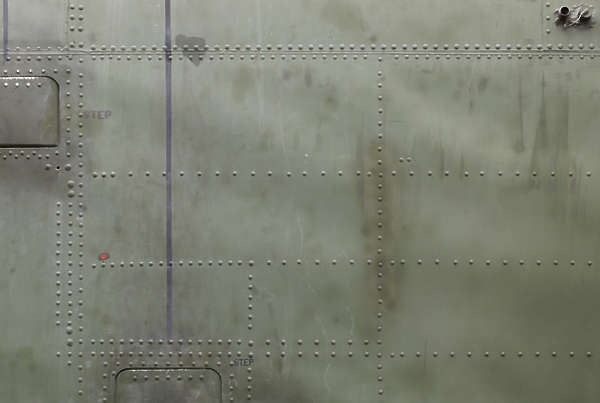hole: (57, 165, 61, 170)
rivet: (66, 339, 74, 348), (66, 327, 75, 335), (64, 164, 72, 172), (377, 363, 384, 371), (377, 311, 384, 319), (68, 191, 76, 198), (69, 181, 76, 189), (231, 171, 239, 178), (588, 43, 595, 50), (556, 43, 563, 50), (494, 43, 501, 50), (432, 44, 439, 51), (422, 44, 429, 51), (411, 43, 418, 50), (391, 43, 398, 50), (380, 44, 387, 51), (359, 45, 366, 52), (348, 44, 355, 51), (339, 44, 346, 51), (307, 44, 314, 51), (297, 44, 304, 51), (287, 44, 294, 51), (45, 164, 52, 171), (78, 313, 85, 320), (329, 339, 336, 346), (377, 375, 384, 382), (585, 351, 592, 358), (463, 171, 470, 178), (377, 298, 384, 305), (377, 222, 384, 229), (145, 170, 152, 177), (255, 45, 263, 51), (103, 384, 109, 392), (518, 260, 526, 266), (315, 259, 321, 267), (495, 54, 501, 61), (465, 55, 472, 61), (545, 15, 551, 22), (578, 43, 584, 50), (567, 44, 574, 50), (545, 28, 551, 35), (547, 44, 553, 51), (536, 45, 543, 51), (463, 44, 469, 51), (454, 43, 460, 50), (443, 44, 449, 51), (370, 44, 376, 51), (318, 44, 324, 51), (277, 44, 283, 51), (267, 44, 273, 51), (140, 360, 147, 366), (198, 375, 205, 381), (132, 375, 139, 381), (165, 361, 172, 367), (179, 361, 186, 367), (99, 339, 105, 346), (78, 391, 85, 397), (78, 364, 84, 371), (56, 351, 62, 358), (90, 338, 96, 345), (79, 338, 85, 345), (55, 320, 61, 327), (216, 361, 223, 367), (203, 361, 210, 367), (197, 339, 204, 345), (249, 352, 255, 359), (248, 341, 254, 348), (265, 340, 272, 346), (265, 351, 271, 358), (281, 339, 287, 346), (298, 338, 304, 345), (298, 351, 304, 358), (314, 352, 320, 359), (313, 339, 320, 345), (378, 389, 384, 396), (376, 326, 383, 332), (415, 350, 421, 357), (431, 351, 438, 357), (448, 352, 455, 358), (466, 351, 472, 358), (569, 351, 575, 358), (552, 260, 559, 266), (568, 171, 574, 178), (444, 171, 450, 178), (501, 260, 508, 266), (484, 260, 491, 266), (452, 260, 459, 266), (417, 259, 424, 265), (400, 258, 406, 265), (377, 286, 384, 292), (389, 260, 396, 266), (296, 259, 303, 265), (249, 260, 255, 267), (78, 183, 84, 190), (78, 123, 84, 130), (110, 172, 117, 178), (337, 171, 344, 177), (506, 55, 512, 61), (516, 55, 522, 61), (547, 54, 553, 60), (527, 54, 533, 60), (455, 55, 461, 61), (435, 55, 441, 61), (505, 44, 511, 50), (485, 44, 491, 50), (475, 44, 481, 50), (402, 45, 408, 51), (328, 44, 334, 50), (45, 154, 51, 160), (230, 397, 236, 403), (112, 371, 118, 377), (103, 373, 109, 379), (128, 361, 134, 367), (176, 375, 182, 381), (165, 375, 171, 381), (143, 374, 149, 380), (192, 361, 198, 367), (188, 338, 194, 344), (148, 339, 154, 345), (139, 339, 145, 345), (119, 339, 125, 345), (109, 339, 115, 345), (100, 351, 106, 357), (78, 377, 84, 383), (68, 351, 74, 357), (207, 352, 213, 358), (217, 339, 223, 345), (227, 339, 233, 345), (248, 314, 254, 320), (247, 394, 253, 400), (281, 351, 287, 357), (330, 352, 336, 358), (363, 339, 369, 345), (376, 339, 382, 345), (389, 352, 395, 358), (399, 352, 405, 358), (483, 351, 489, 357), (517, 351, 523, 357), (570, 260, 576, 266), (586, 171, 592, 177), (550, 172, 556, 178), (531, 171, 537, 177), (479, 172, 485, 178), (536, 260, 542, 266), (467, 260, 473, 266), (434, 259, 440, 265), (349, 259, 355, 265), (377, 248, 383, 254), (377, 210, 383, 216), (281, 260, 287, 266), (248, 304, 254, 310), (248, 295, 254, 301), (248, 274, 254, 280), (178, 261, 184, 267), (79, 301, 85, 307), (67, 291, 73, 297), (110, 262, 116, 268), (78, 143, 84, 149), (162, 171, 168, 177), (128, 172, 134, 178), (101, 173, 107, 179), (92, 172, 98, 178), (286, 172, 292, 178), (250, 171, 256, 177), (215, 172, 221, 178), (179, 172, 185, 178), (408, 171, 414, 177), (321, 171, 327, 177), (367, 172, 373, 178), (377, 160, 383, 166), (91, 45, 97, 51), (79, 43, 85, 49), (70, 15, 76, 21), (79, 16, 85, 22), (79, 5, 85, 11), (70, 5, 76, 11), (559, 54, 564, 61), (424, 56, 431, 61), (527, 43, 532, 50), (103, 396, 108, 403), (120, 351, 125, 358), (67, 361, 74, 366), (79, 326, 84, 333), (227, 351, 232, 358), (237, 351, 242, 358), (587, 261, 592, 268), (496, 173, 503, 178), (407, 157, 412, 164), (377, 273, 384, 278), (120, 261, 125, 268), (66, 115, 71, 122), (120, 46, 127, 51), (486, 55, 491, 61), (476, 54, 481, 60), (516, 44, 521, 50), (38, 155, 43, 161), (25, 156, 31, 161), (20, 150, 25, 156), (15, 154, 20, 160), (154, 376, 160, 381), (154, 362, 160, 367), (138, 351, 144, 356), (159, 352, 165, 357), (178, 351, 184, 356), (158, 339, 164, 344), (129, 339, 134, 345), (109, 352, 114, 358), (79, 353, 85, 358), (67, 321, 73, 326), (198, 352, 203, 358), (208, 339, 213, 345), (248, 324, 254, 329), (237, 340, 242, 346), (229, 374, 235, 379), (229, 386, 235, 391), (248, 385, 253, 391), (248, 377, 254, 382), (348, 351, 353, 357), (348, 339, 353, 345), (364, 352, 369, 358), (376, 353, 382, 358), (500, 351, 505, 357), (551, 351, 556, 357), (427, 171, 432, 177), (399, 158, 404, 164), (332, 259, 337, 265), (366, 260, 372, 265), (377, 236, 383, 241), (248, 285, 254, 290), (267, 260, 272, 266), (238, 260, 243, 266), (228, 260, 233, 266), (218, 260, 223, 266), (197, 261, 202, 267), (68, 311, 74, 316), (56, 311, 61, 317), (68, 301, 74, 306), (80, 288, 85, 294), (55, 301, 61, 306), (139, 262, 145, 267), (130, 262, 135, 268), (102, 263, 107, 269), (80, 275, 85, 281), (68, 281, 73, 287), (68, 271, 74, 276), (79, 262, 85, 267), (79, 252, 84, 258), (80, 242, 85, 248), (79, 223, 85, 228), (56, 251, 61, 257), (57, 241, 62, 247), (57, 211, 62, 217), (78, 174, 84, 179), (79, 153, 84, 159), (79, 133, 85, 138), (66, 128, 71, 134), (66, 141, 71, 147), (67, 153, 72, 159), (302, 172, 307, 178), (198, 172, 203, 178), (378, 96, 383, 102), (394, 55, 400, 60), (342, 55, 348, 60), (141, 46, 147, 51), (199, 56, 204, 62), (70, 43, 75, 49), (78, 28, 84, 33), (69, 27, 75, 32), (92, 351, 96, 358), (537, 56, 542, 61), (445, 55, 450, 60), (414, 55, 419, 60), (33, 151, 38, 156), (188, 375, 193, 380), (116, 361, 121, 366), (149, 352, 154, 357), (169, 351, 174, 356), (188, 351, 193, 356), (169, 339, 174, 344), (129, 352, 134, 357), (218, 352, 223, 357), (229, 361, 234, 366), (248, 367, 253, 372), (535, 352, 540, 357), (516, 173, 521, 178), (378, 263, 383, 268), (208, 261, 213, 266), (188, 261, 193, 266), (149, 263, 154, 268), (56, 292, 61, 297), (92, 264, 97, 269), (56, 281, 61, 286), (56, 272, 61, 277), (56, 261, 61, 266), (68, 252, 73, 257), (79, 203, 84, 208), (80, 213, 85, 218), (69, 232, 74, 237), (56, 232, 61, 237), (68, 222, 73, 227), (57, 222, 62, 227), (56, 202, 61, 207), (79, 194, 84, 199), (79, 164, 84, 169), (378, 197, 383, 202), (378, 184, 383, 189), (356, 172, 361, 177), (379, 173, 384, 178), (392, 172, 397, 177), (378, 148, 383, 153), (378, 122, 383, 127), (378, 110, 383, 115), (378, 84, 383, 89), (377, 72, 382, 77), (378, 57, 383, 62), (353, 56, 358, 61), (323, 55, 328, 60), (281, 56, 286, 61), (225, 45, 230, 50), (205, 46, 210, 51), (184, 45, 189, 50), (174, 46, 179, 51), (152, 46, 157, 51), (219, 56, 224, 61), (209, 56, 214, 61), (179, 57, 184, 62), (79, 113, 84, 118), (79, 104, 84, 109), (67, 104, 72, 109), (26, 83, 31, 88), (4, 83, 9, 88), (111, 46, 116, 51), (38, 57, 43, 62), (48, 56, 53, 61), (58, 56, 63, 61), (69, 56, 74, 61), (80, 59, 85, 64), (92, 56, 97, 61), (101, 46, 106, 51), (105, 361, 109, 367), (160, 261, 164, 267), (79, 94, 85, 98), (158, 57, 164, 61), (9, 151, 13, 156), (179, 340, 184, 344), (69, 261, 73, 266), (79, 233, 83, 238), (69, 242, 73, 247), (69, 213, 74, 217), (68, 204, 73, 208), (268, 172, 272, 177), (379, 135, 383, 140), (405, 55, 409, 60), (363, 56, 368, 60), (334, 56, 338, 61), (312, 56, 317, 60), (301, 56, 306, 60), (292, 56, 296, 61), (271, 56, 275, 61), (236, 45, 240, 50), (194, 46, 199, 50), (132, 47, 137, 51), (189, 57, 193, 62), (169, 56, 173, 61), (37, 84, 42, 88), (15, 84, 20, 88), (148, 57, 153, 61), (128, 57, 132, 62), (117, 56, 121, 61), (101, 56, 105, 61), (66, 70, 71, 74), (42, 70, 46, 75), (29, 69, 33, 74), (18, 57, 22, 62), (4, 156, 8, 160), (261, 57, 265, 61), (251, 57, 255, 61), (240, 57, 244, 61), (230, 57, 234, 61), (138, 57, 142, 61), (109, 56, 113, 60), (66, 93, 70, 97), (80, 85, 84, 89), (67, 81, 71, 85), (79, 74, 83, 78), (17, 71, 21, 75), (7, 58, 11, 62), (28, 58, 32, 62), (55, 70, 58, 74), (5, 71, 8, 75), (247, 47, 250, 50)
